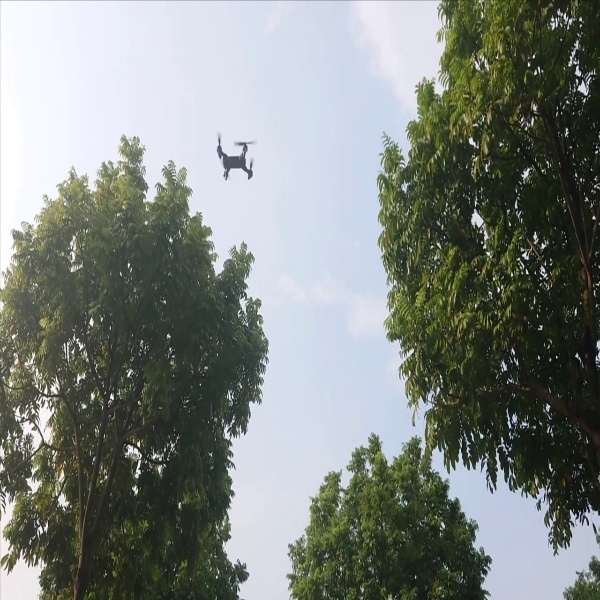drone: (209, 126, 264, 185)
